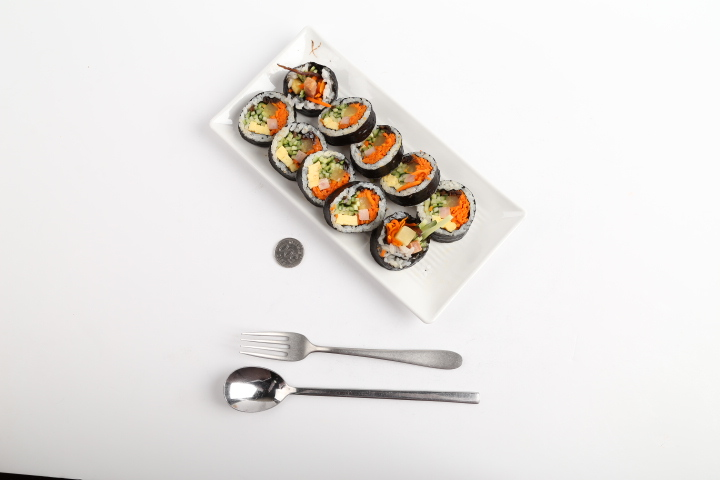dish: (208, 27, 525, 323)
ref_coin: (274, 237, 304, 268)
ref_fork: (239, 331, 317, 362)
ref_spoon: (224, 366, 294, 413)
김밥: (237, 60, 475, 272)
